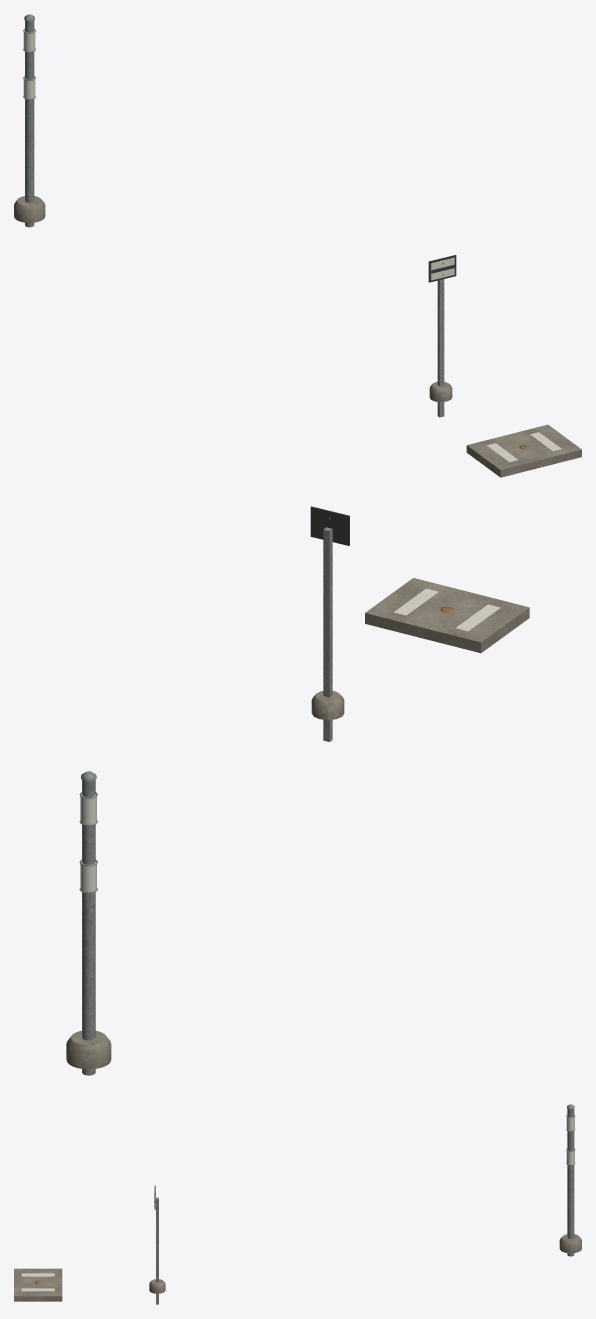
File: SM_SubstationField_Reference_LOD1.fbx
3 renders of one model, top to bottom at view 1: azimuth 30°, elevation 25°; view 2: azimuth 150°, elevation 25°; view 3: azimuth 270°, elevation 25°, orthographic. The views are drawn at different scales.
Parts seen in each view (by area): view 1: SM_SubstationField_Reference_LOD1; view 2: SM_SubstationField_Reference_LOD1; view 3: SM_SubstationField_Reference_LOD1.
Part boxes in pixels (x1,y1,x2,y2): SM_SubstationField_Reference_LOD1: (14,14,581,477); SM_SubstationField_Reference_LOD1: (66,506,529,1075); SM_SubstationField_Reference_LOD1: (14,1104,581,1304).
Bounding box in the file's own units: 1.95 × 7.62 × 2.32.
